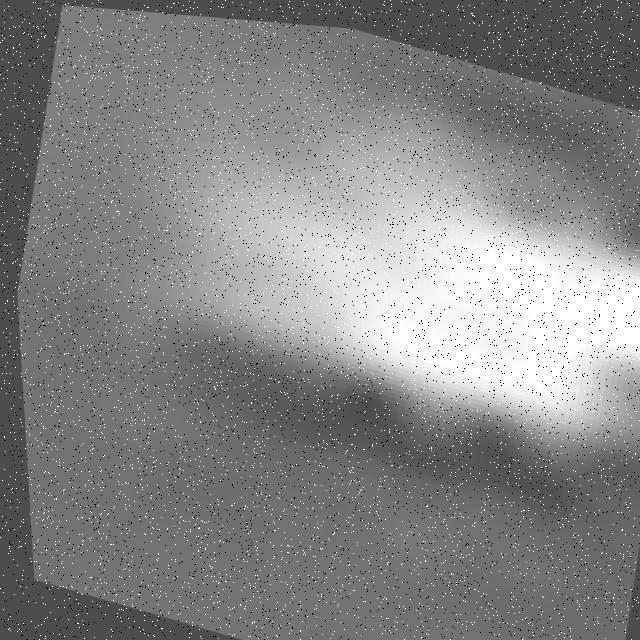person: (94, 41, 640, 467)
